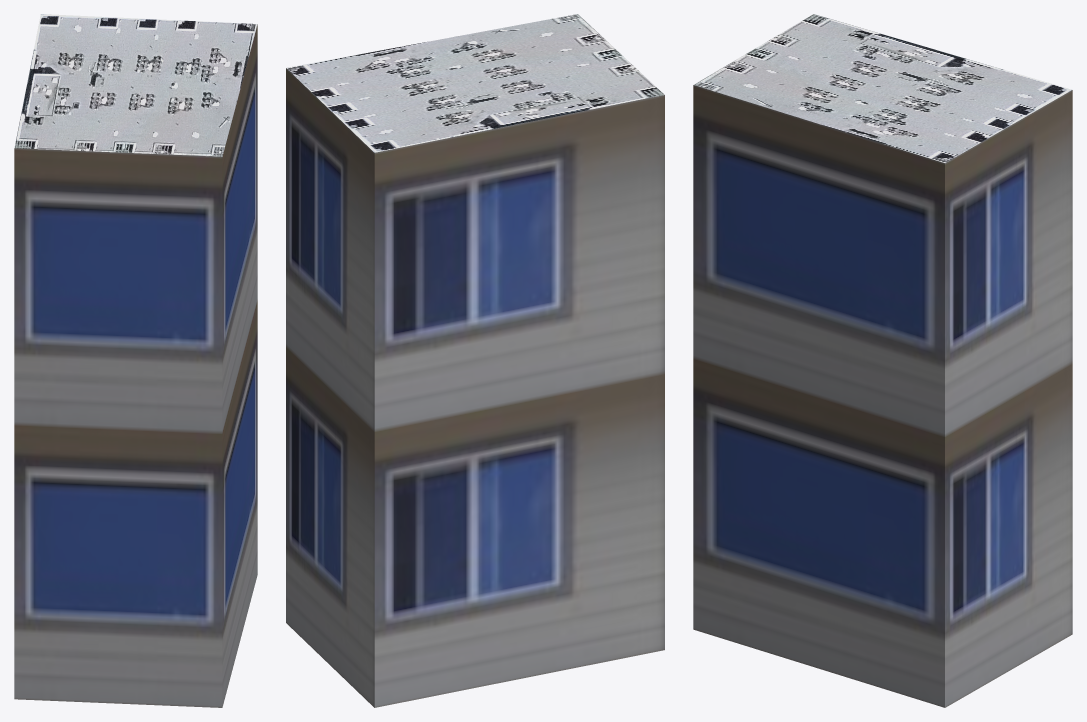
File: ResTex__1148.fbx
3 renders of one model, left to right at view 1: azimuth 30°, elevation 25°; view 2: azimuth 150°, elevation 25°; view 3: azimuth 270°, elevation 25°, orthographic.
Parts seen in each view (by area): view 1: CityEngineMaterial_23_m, CityEngineMaterial_m; view 2: CityEngineMaterial_23_m, CityEngineMaterial_m; view 3: CityEngineMaterial_23_m, CityEngineMaterial_m.
Boxes of the visible parts, bbox=[...] form: CityEngineMaterial_23_m: bbox=[14, 24, 257, 707]; CityEngineMaterial_m: bbox=[14, 14, 257, 156]; CityEngineMaterial_23_m: bbox=[286, 68, 664, 707]; CityEngineMaterial_m: bbox=[286, 14, 664, 152]; CityEngineMaterial_23_m: bbox=[693, 85, 1072, 707]; CityEngineMaterial_m: bbox=[694, 14, 1071, 162].
Size of the model in its own units: 3.53 by 6 by 3.78.
2 materials, 2 textured.
